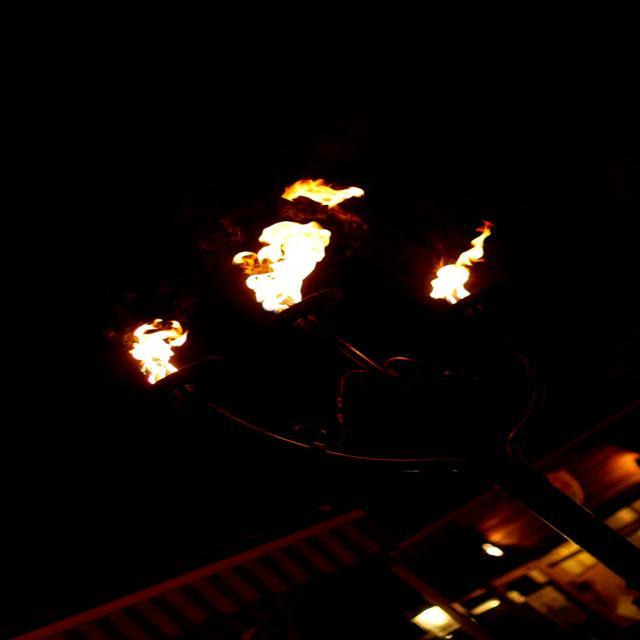Fire: (239, 220, 326, 316), (122, 314, 192, 378), (428, 240, 468, 320), (281, 175, 363, 214)
